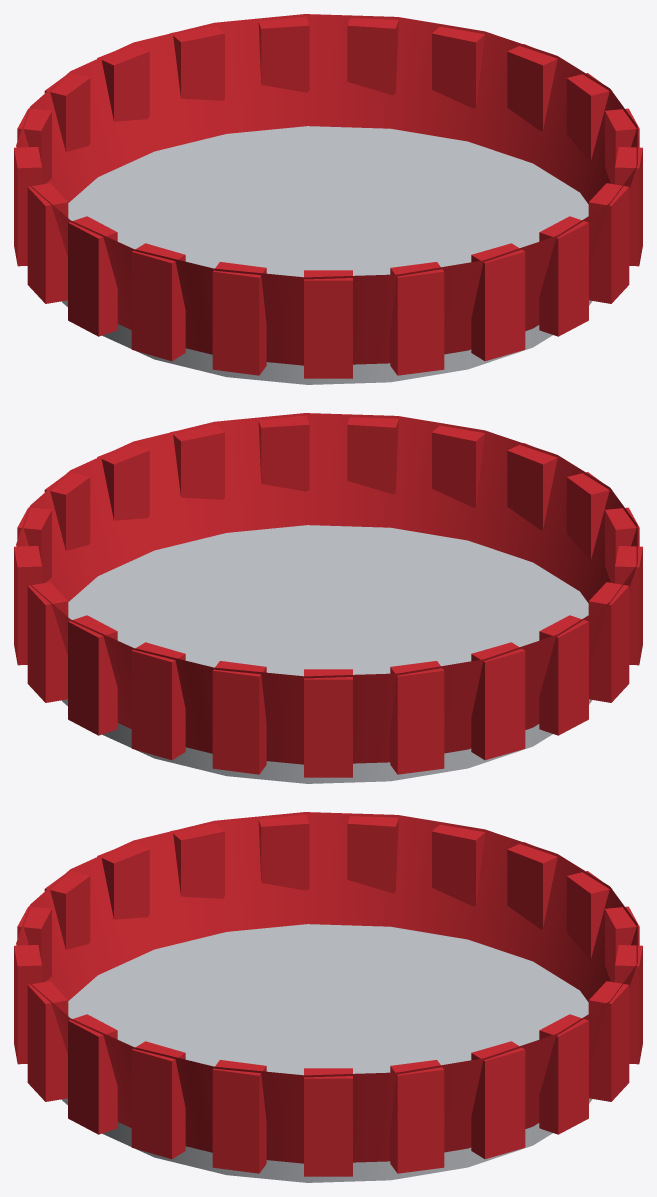
File: bottle_cap.glb
The picture shows the model from 3 angles, top to bottom: view 1: azimuth 30°, elevation 25°; view 2: azimuth 150°, elevation 25°; view 3: azimuth 270°, elevation 25°; orthographic projection.
Visible parts, largest first — view 1: bottle_cap; view 2: bottle_cap; view 3: bottle_cap.
Boxes of the visible parts, x1=… form: bottle_cap: x1=14, y1=14, x2=642, y2=384; bottle_cap: x1=14, y1=413, x2=642, y2=783; bottle_cap: x1=14, y1=812, x2=642, y2=1182.
Bounding box in the file's own units: 3.6 × 0.77 × 3.61.
